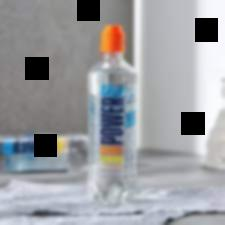powerO2_orange: (82, 21, 142, 209)
